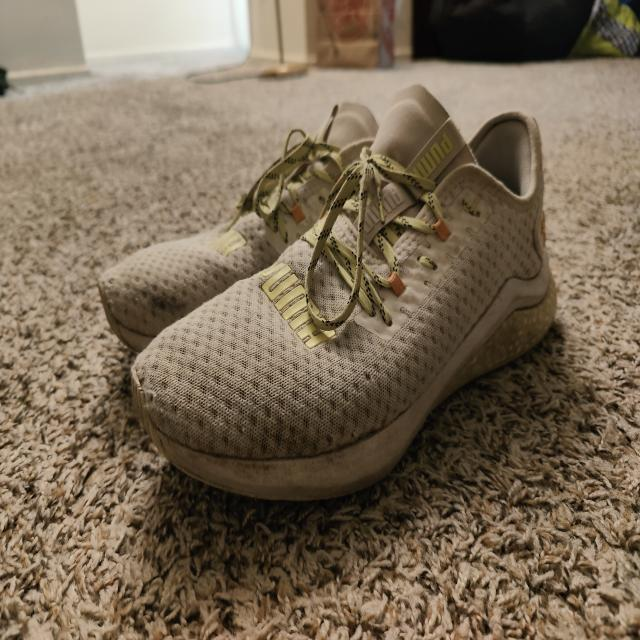white shoes: (280, 138, 543, 338)
